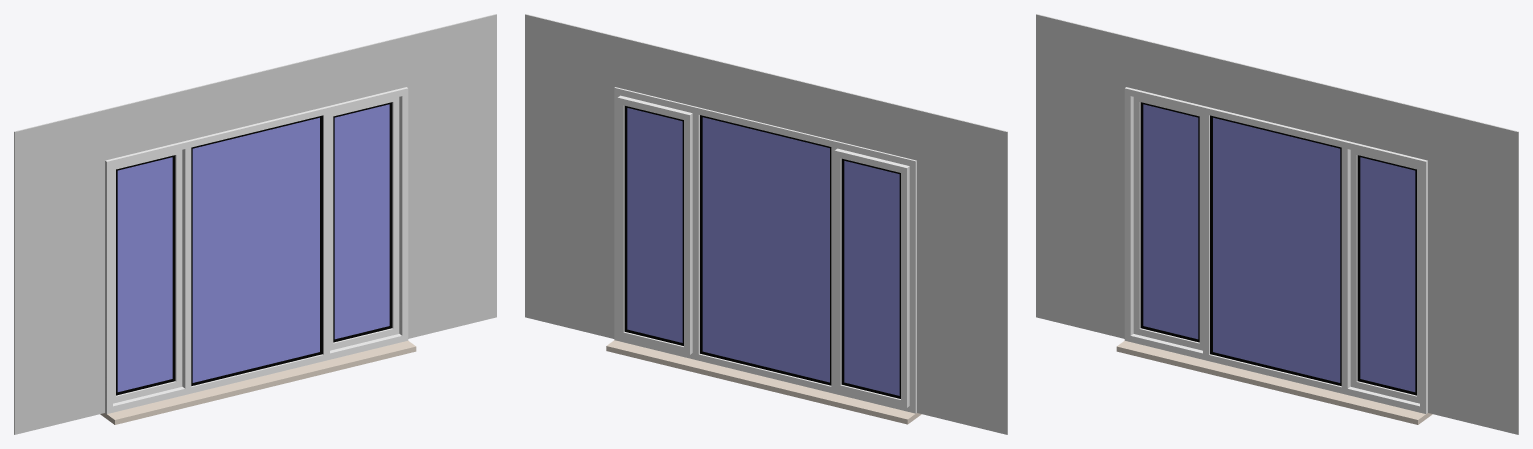
File: wall_window 1.fbx
3 renders of one model, left to right at view 1: azimuth 30°, elevation 25°; view 2: azimuth 150°, elevation 25°; view 3: azimuth 330°, elevation 25°, orthographic.
Parts seen in each view (by area): view 1: Window, window_wall; view 2: Window, window_wall; view 3: Window, window_wall.
Part boxes in pixels (x1,y1,x2,y2): Window: (100, 87, 416, 424); window_wall: (14, 14, 496, 434); Window: (606, 87, 921, 424); window_wall: (525, 14, 1007, 434); Window: (1116, 87, 1432, 424); window_wall: (1036, 14, 1518, 434).
Bounding box in the file's own units: 400 × 244 × 28.
